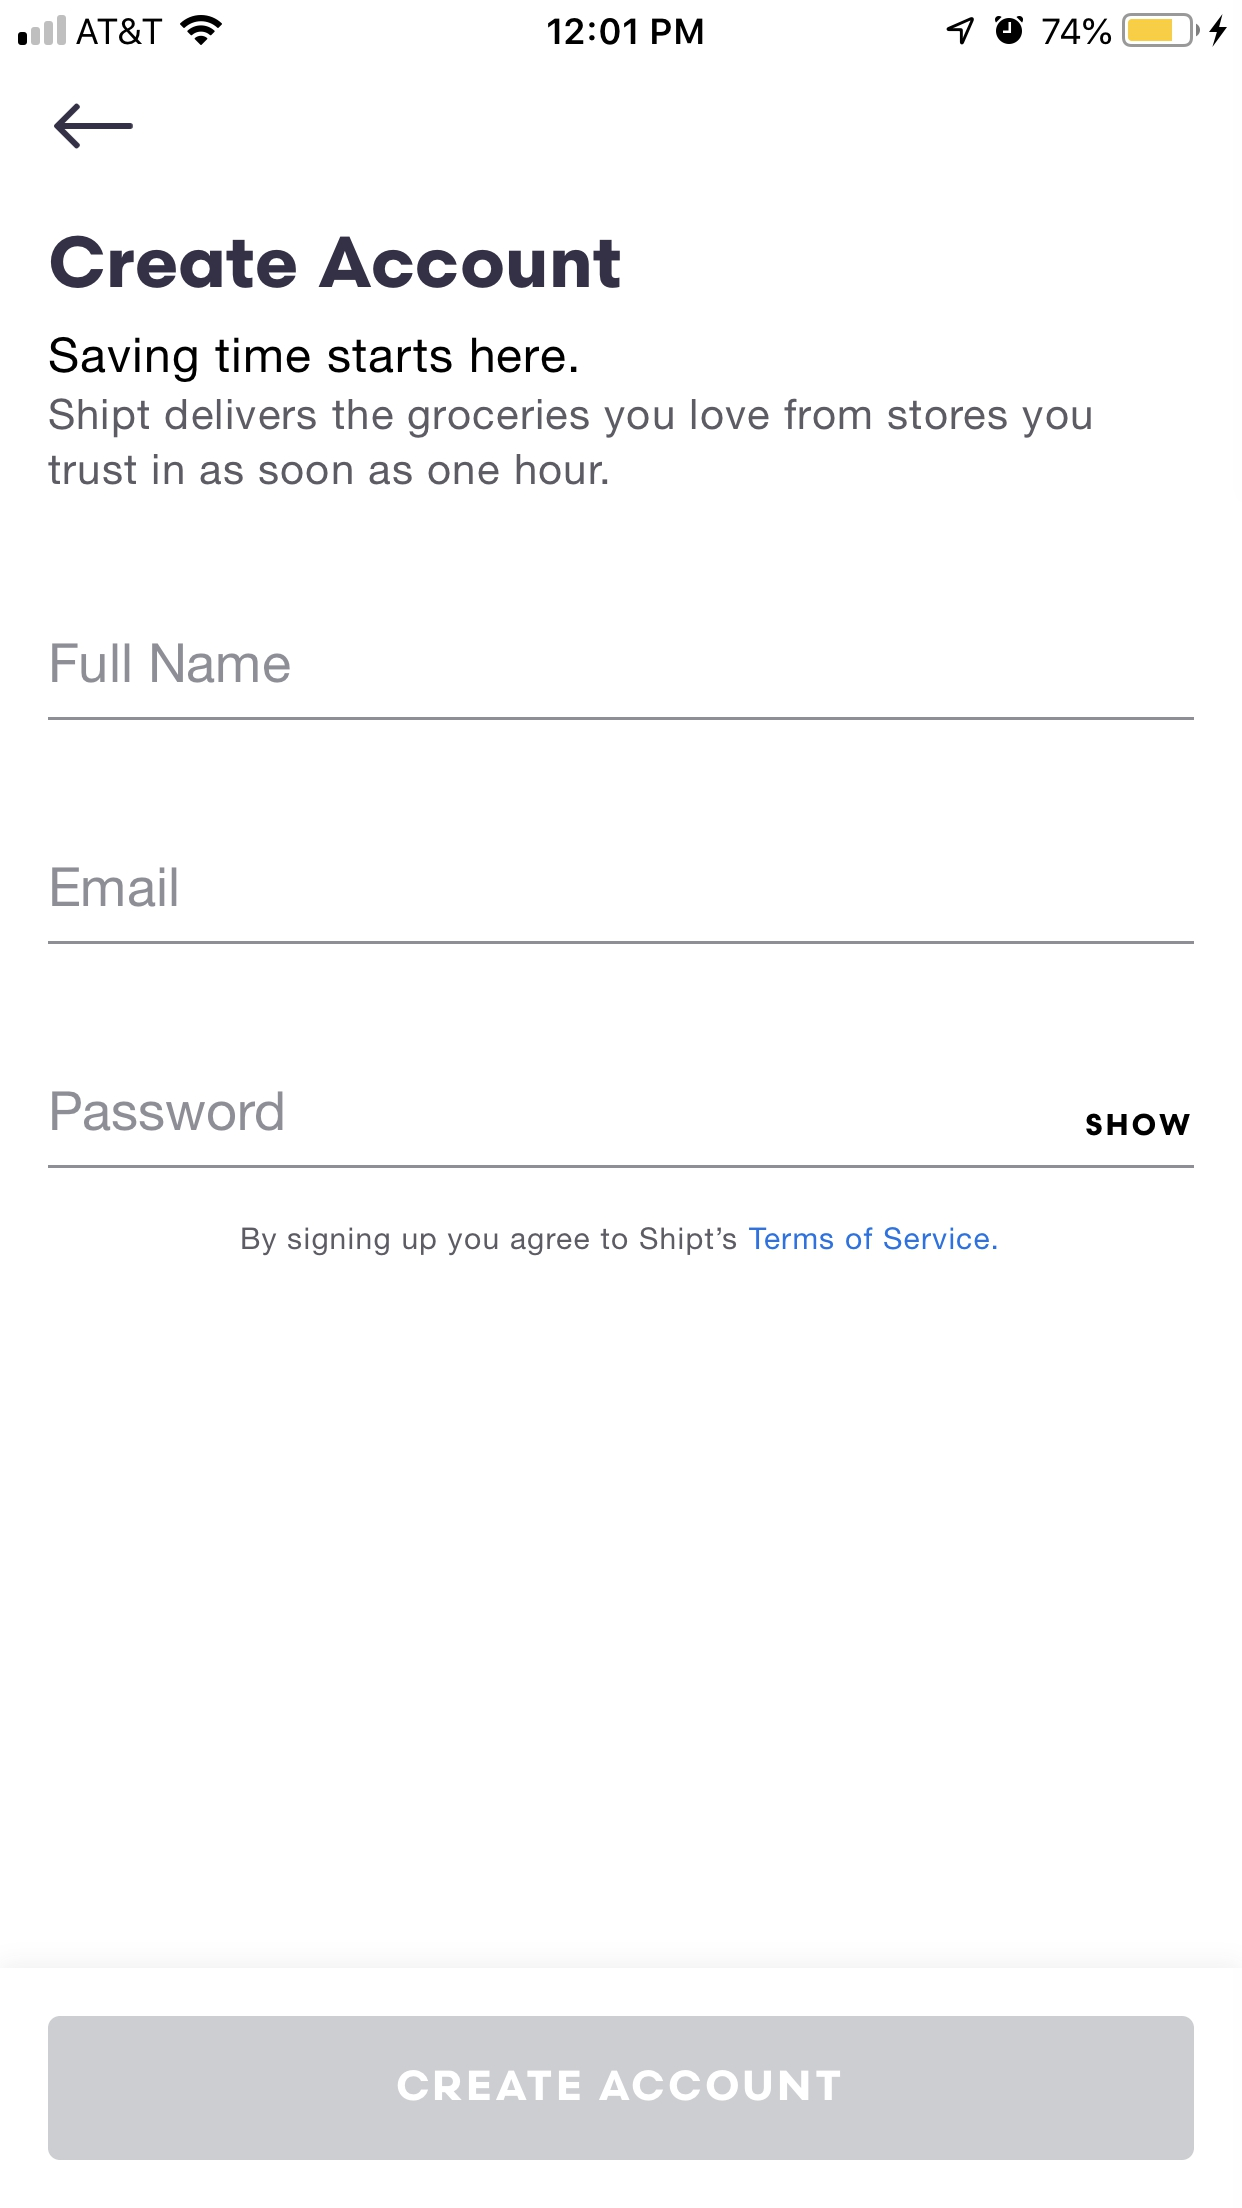EditText: (49, 641, 1195, 720), (49, 866, 1195, 945), (49, 1090, 1193, 1169)
Icon: (55, 103, 135, 150)
Text: (49, 397, 1092, 485), (52, 235, 622, 290), (50, 337, 578, 384), (243, 1225, 998, 1257), (52, 641, 290, 684), (52, 1090, 284, 1131), (52, 867, 177, 908), (1084, 1113, 1190, 1137)
TextButton: (49, 2015, 1195, 2161)
UpperTaskBar: (2, 2, 1242, 49)
